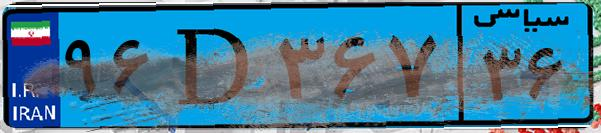3: (270, 28, 330, 110), (475, 38, 525, 113)
6: (330, 28, 385, 110), (525, 38, 570, 115), (110, 28, 158, 98)
7: (385, 28, 445, 110)
9: (57, 26, 110, 100)
D: (158, 12, 270, 120)
